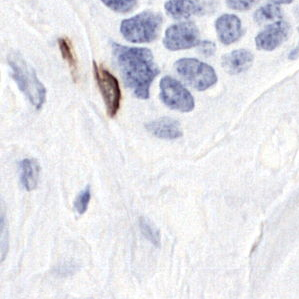Lymphocyte: (92, 60, 121, 120)
